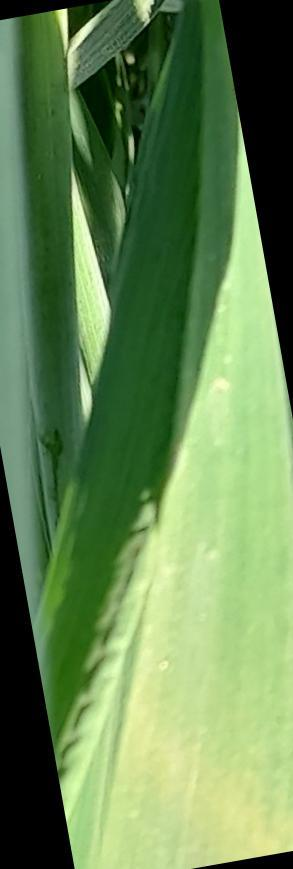Wheat: (43, 345, 293, 869)
